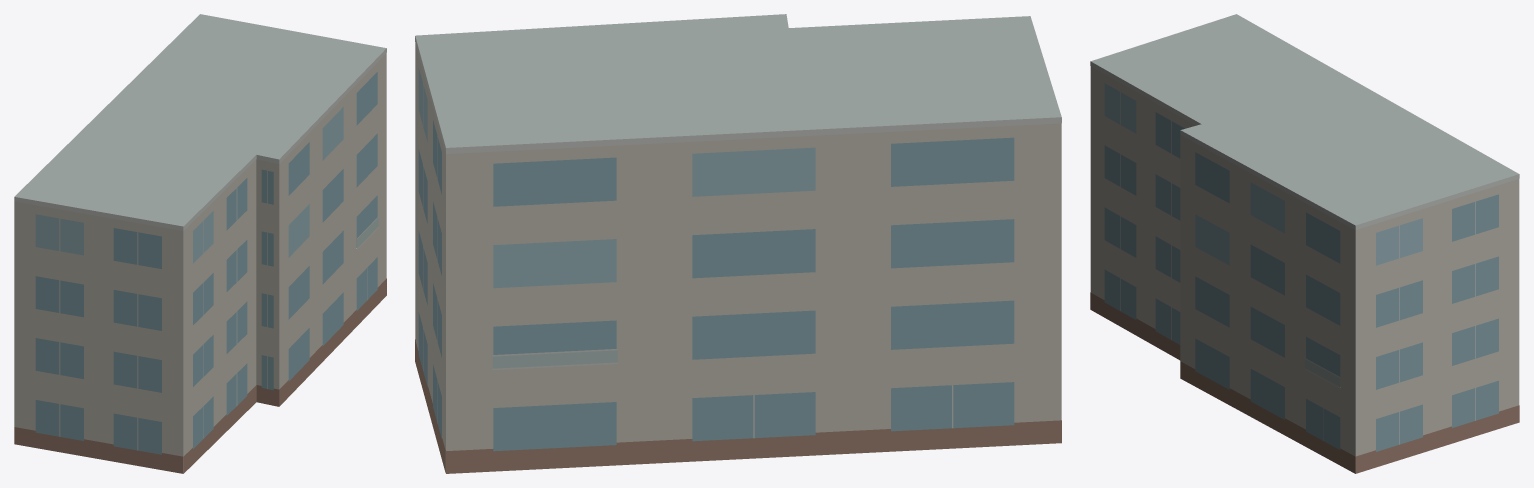
File: survey-upis-32628437.glb
3 renders of one model, left to right at view 1: azimuth 30°, elevation 25°; view 2: azimuth 150°, elevation 25°; view 3: azimuth 270°, elevation 25°, orthographic. The views are drawn at different scales.
Parts seen in each view (by area): view 1: survey-upis-32628437.tmp; view 2: survey-upis-32628437.tmp; view 3: survey-upis-32628437.tmp.
Boxes of the visible parts, x1,y1,x2,y2 form: survey-upis-32628437.tmp: [14, 14, 386, 473]; survey-upis-32628437.tmp: [415, 14, 1061, 473]; survey-upis-32628437.tmp: [1090, 14, 1519, 473].
Size of the model in its own units: 23.75 by 13 by 20.35.
